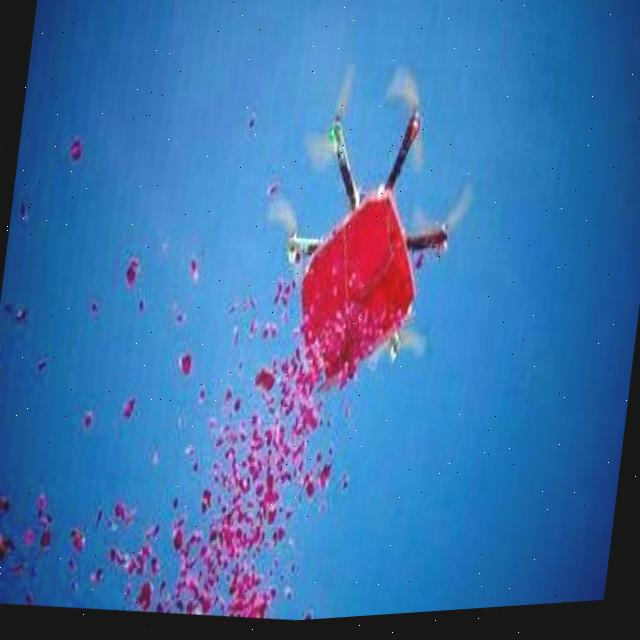drone: (256, 98, 487, 407)
